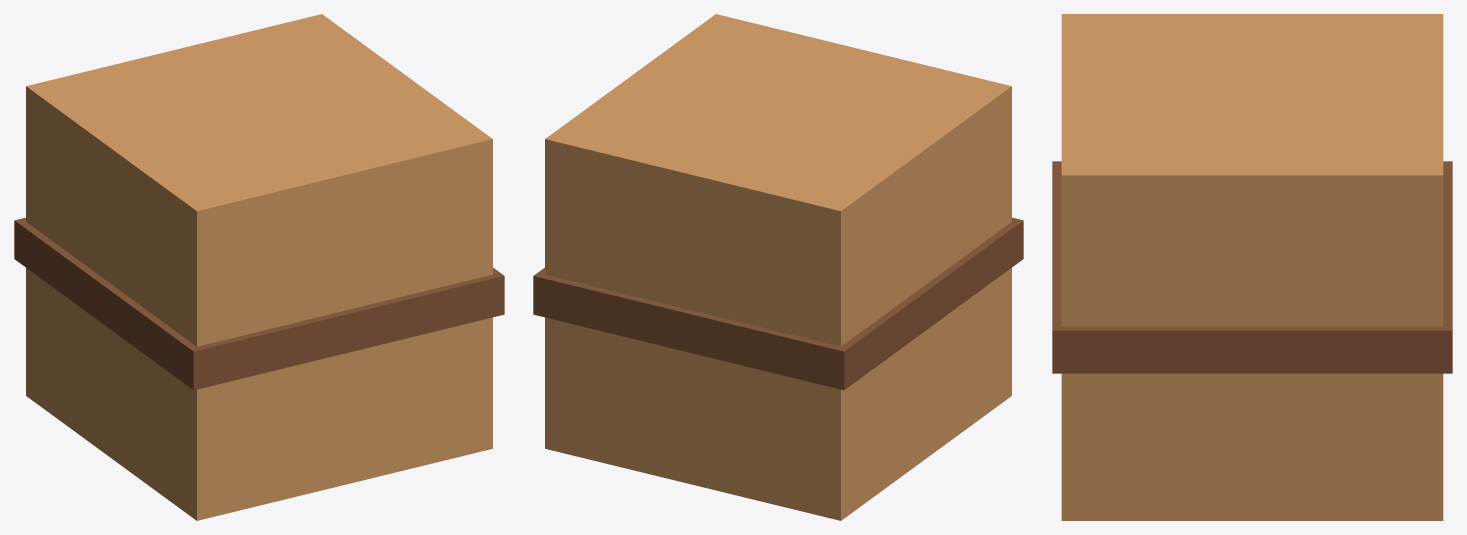
The model's file is crate.glb.
3 views of the same model, side by side, from view 1: azimuth 30°, elevation 25°; view 2: azimuth 150°, elevation 25°; view 3: azimuth 270°, elevation 25° (orthographic). The views are drawn at different scales.
Parts seen in each view (by area): view 1: crate-0, crate-1; view 2: crate-0, crate-1; view 3: crate-0, crate-1.
Boxes of the visible parts, box(x1,y1,x2,y2) form: crate-0: box(26, 14, 492, 520); crate-1: box(14, 217, 504, 390); crate-0: box(545, 14, 1011, 520); crate-1: box(533, 217, 1023, 390); crate-0: box(1061, 14, 1443, 520); crate-1: box(1052, 161, 1452, 373).
Size of the model in its own units: 0.84 by 0.8 by 0.84.
